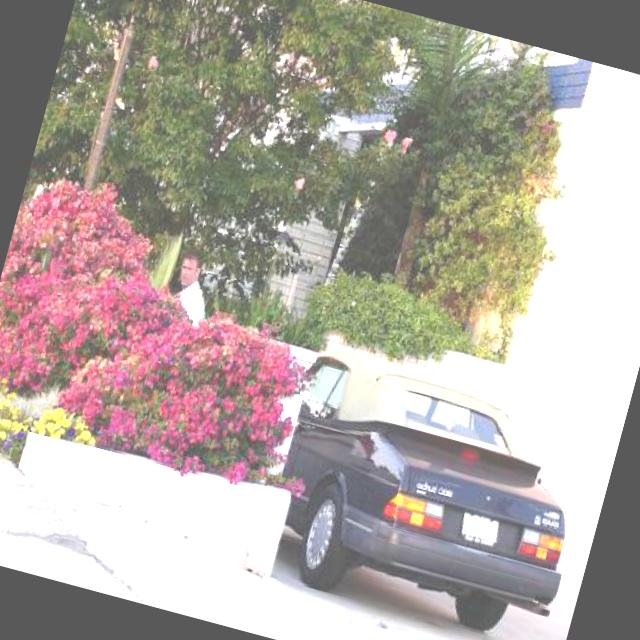Person: (164, 246, 223, 332)
